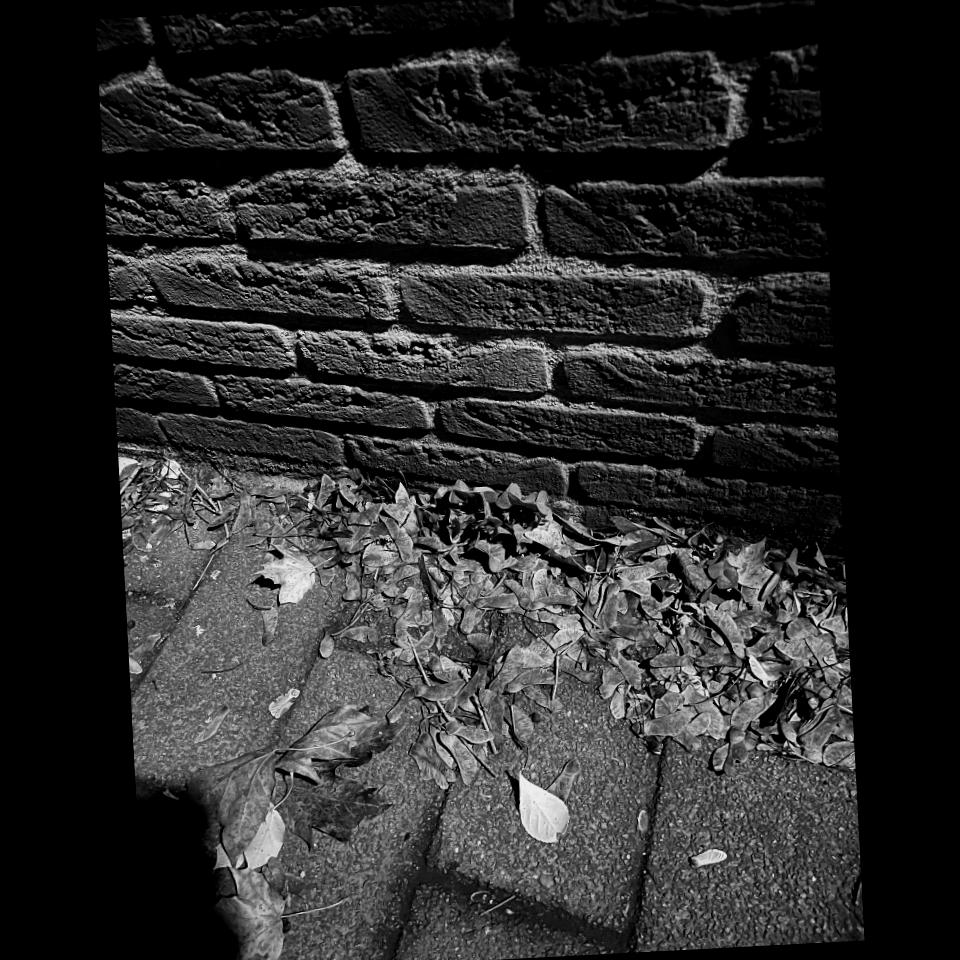weed: (415, 474, 558, 567), (691, 548, 737, 595), (775, 551, 802, 578), (654, 580, 674, 602)
